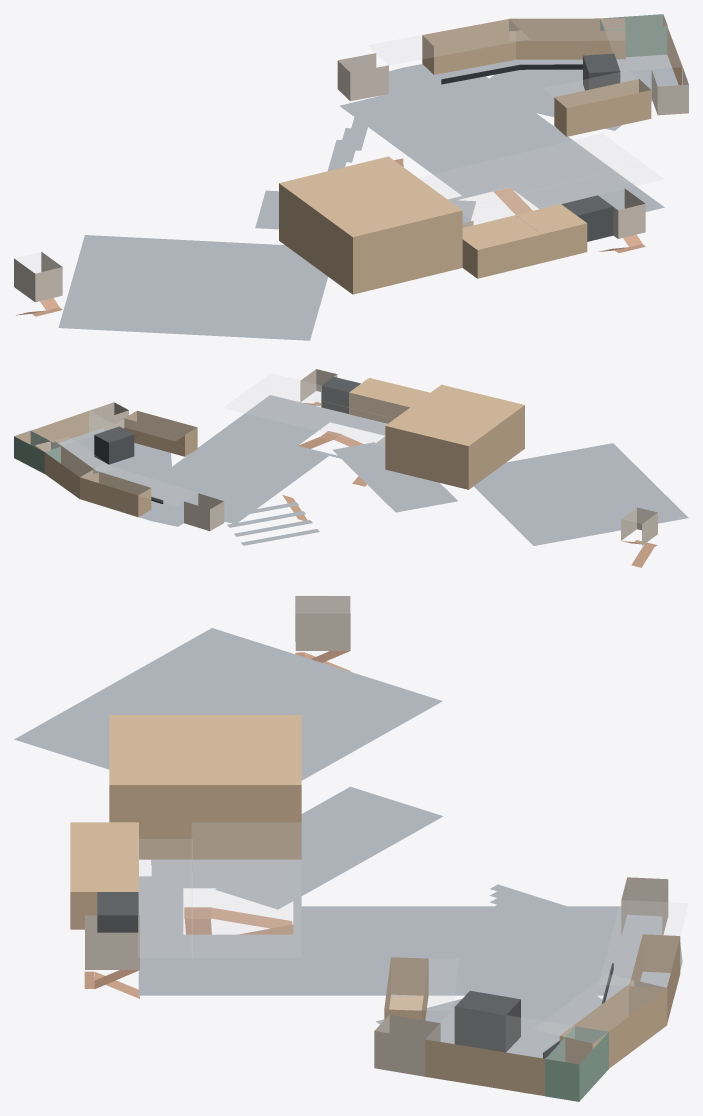
3 renders of one model, top to bottom at view 1: azimuth 30°, elevation 25°; view 2: azimuth 150°, elevation 25°; view 3: azimuth 270°, elevation 25°, orthographic. The views are drawn at different scales.
Visible parts, largest first — view 1: Cube.014, Cube.002, 立方體.048, 立方體.169, 立方體.114, 立方體.174, 立方體.095, 立方體.108, 立方體.168, 立方體.170, 立方體.176, Cube.019 (+16 smaller); view 2: Cube.014, Cube.002, 立方體.048, 立方體.169, Cube.013, Cube.019, 立方體.174, 立方體.108, 立方體.168, 立方體.170, 立方體.176, 立方體.114 (+19 smaller); view 3: Cube.002, 立方體.048, Cube.014, 立方體.169, Cube.013, 立方體.168, 立方體.170, 立方體.176, 立方體.063, Cube.019, 立方體.114, 立方體.171 (+18 smaller).
Part boxes in pixels (x1,y1,x2,y2): Cube.014: (58, 235, 327, 340); Cube.002: (339, 71, 664, 211); 立方體.048: (279, 156, 462, 294); 立方體.169: (419, 133, 642, 207); 立方體.114: (509, 18, 625, 59); 立方體.174: (554, 79, 651, 136); 立方體.095: (462, 215, 541, 278); 立方體.108: (422, 19, 520, 74); 立方體.168: (461, 164, 663, 223); 立方體.170: (368, 19, 528, 64); 立方體.176: (601, 15, 681, 70); Cube.019: (470, 59, 672, 130); Cube.014: (474, 443, 688, 545); Cube.002: (151, 395, 376, 524); 立方體.048: (385, 384, 524, 489); 立方體.169: (224, 385, 393, 446); Cube.013: (332, 442, 457, 512); Cube.019: (75, 439, 173, 492); 立方體.174: (124, 410, 197, 456); 立方體.108: (80, 470, 151, 517); 立方體.168: (255, 373, 408, 418); 立方體.170: (81, 464, 197, 506); 立方體.176: (15, 411, 117, 451); 立方體.114: (35, 440, 98, 498); Cube.002: (138, 906, 621, 995); 立方體.048: (109, 715, 301, 859); Cube.014: (14, 628, 442, 780); 立方體.169: (192, 823, 300, 956); Cube.013: (215, 786, 443, 909); 立方體.168: (138, 839, 192, 957); 立方體.170: (599, 900, 688, 987); 立方體.176: (426, 1007, 607, 1063); 立方體.063: (425, 1039, 577, 1095); Cube.019: (376, 977, 602, 1058); 立方體.114: (559, 980, 667, 1068); 立方體.171: (534, 974, 665, 1042).
Size of the model in its own units: 81.56 by 9.41 by 49.08.
